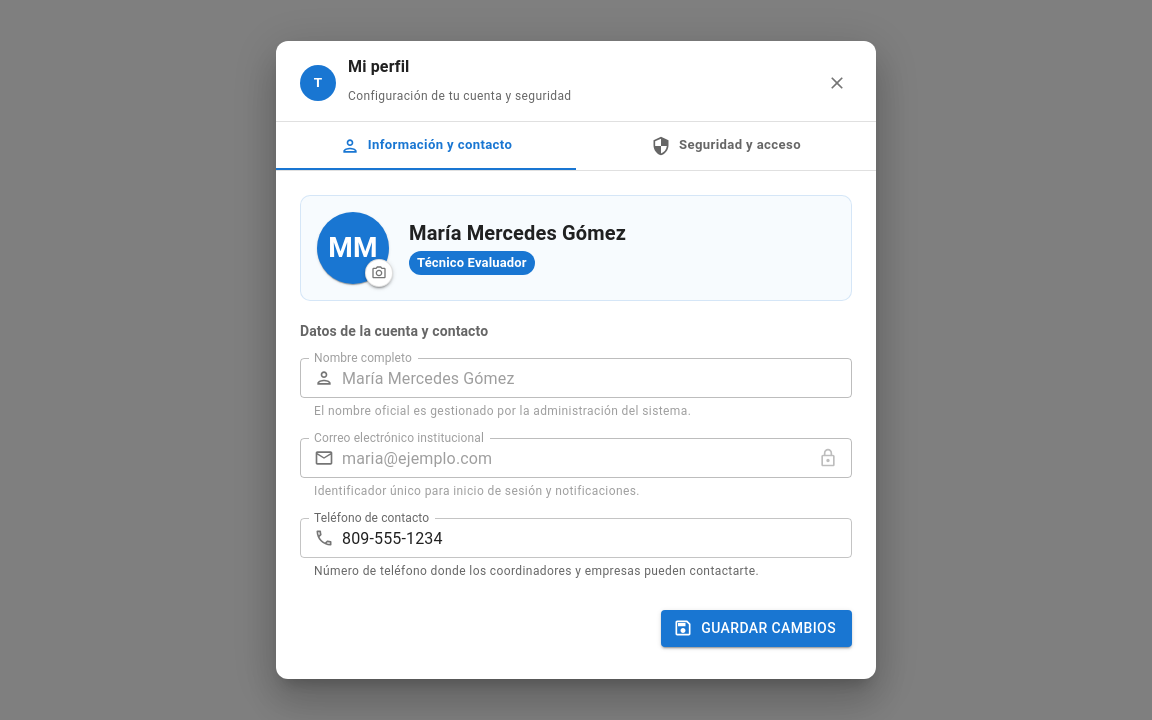
Test: DialogPerfil › permite cambiar a la pestaña Seguridad y muestra el formulario de cambio de contraseña
Click the tab "Seguridad y acceso" at (726, 146), box [576,122,876,170]
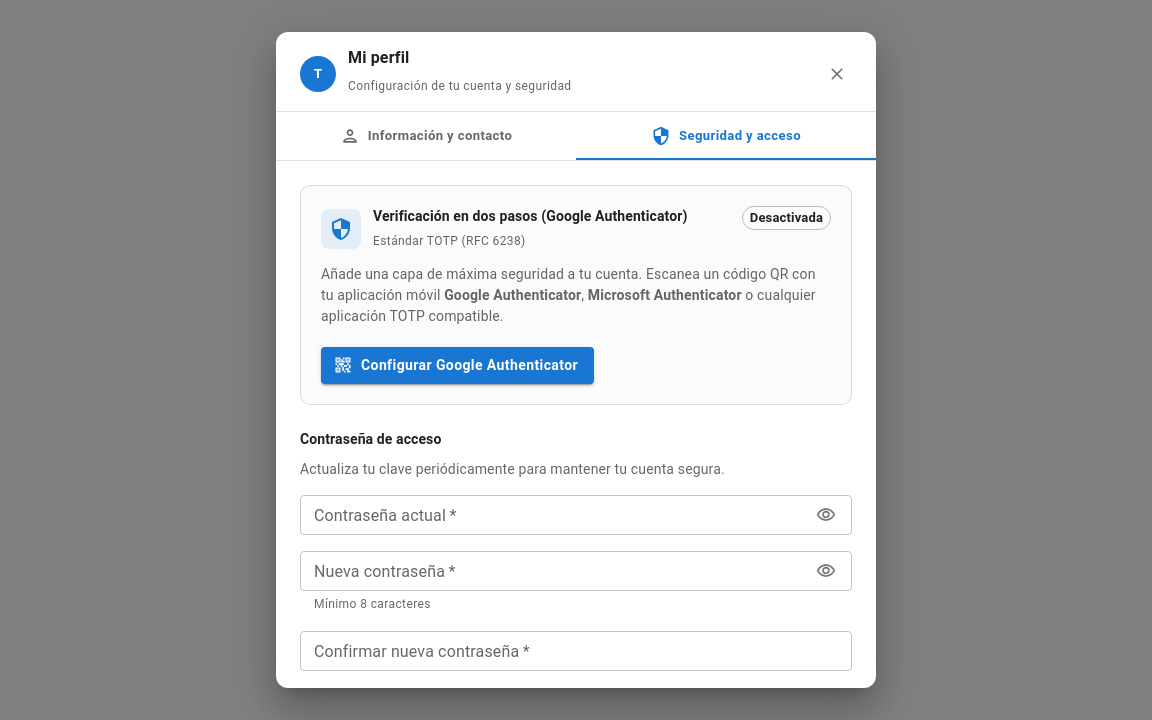
Check: the heading "Contraseña de acceso" is shown, box [300,431,441,447]
Check: the password field labelled "Contraseña actual *" is shown, box [300,495,803,535]
Check: the password field labelled "Nueva contraseña *" is shown, box [300,551,803,591]
